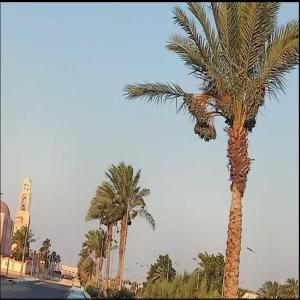palm tree: (121, 1, 299, 298), (104, 160, 156, 291)
